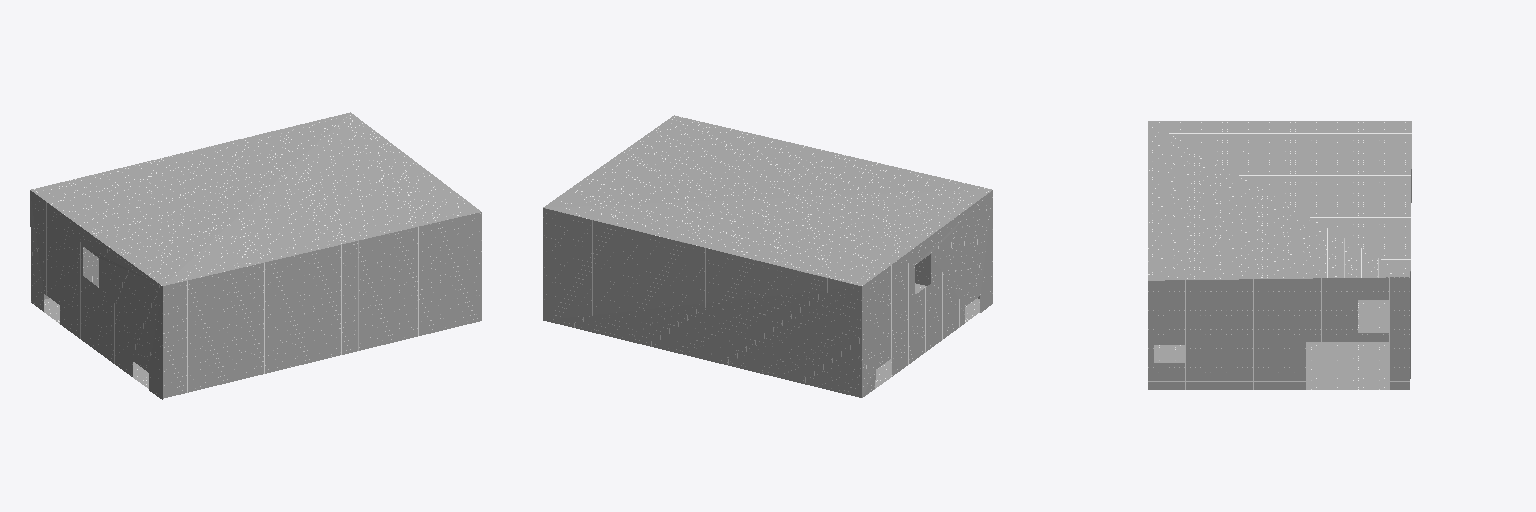
The picture shows the model from 3 angles: view 1: azimuth 30°, elevation 25°; view 2: azimuth 150°, elevation 25°; view 3: azimuth 270°, elevation 25°; orthographic projection.
Visible parts, largest first — view 1: Room 2; view 2: Room 2; view 3: Room 2.
Boxes of the visible parts, x1=… form: Room 2: x1=30, y1=112, x2=481, y2=399; Room 2: x1=543, y1=115, x2=992, y2=397; Room 2: x1=1148, y1=121, x2=1411, y2=389.
Bounding box in the file's own units: 70.63 × 24 × 50.46.
Materials: 1 (1 with a texture image).